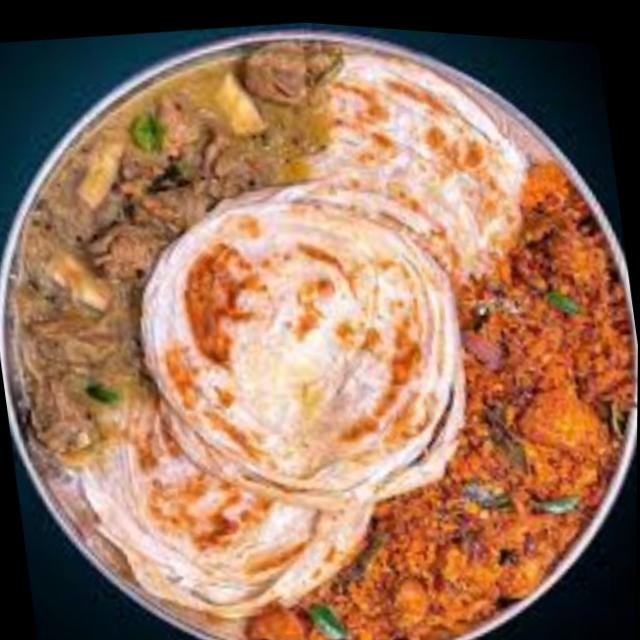CURRY: (256, 161, 634, 640), (5, 39, 348, 483)
PAROTTA: (78, 46, 539, 640)
